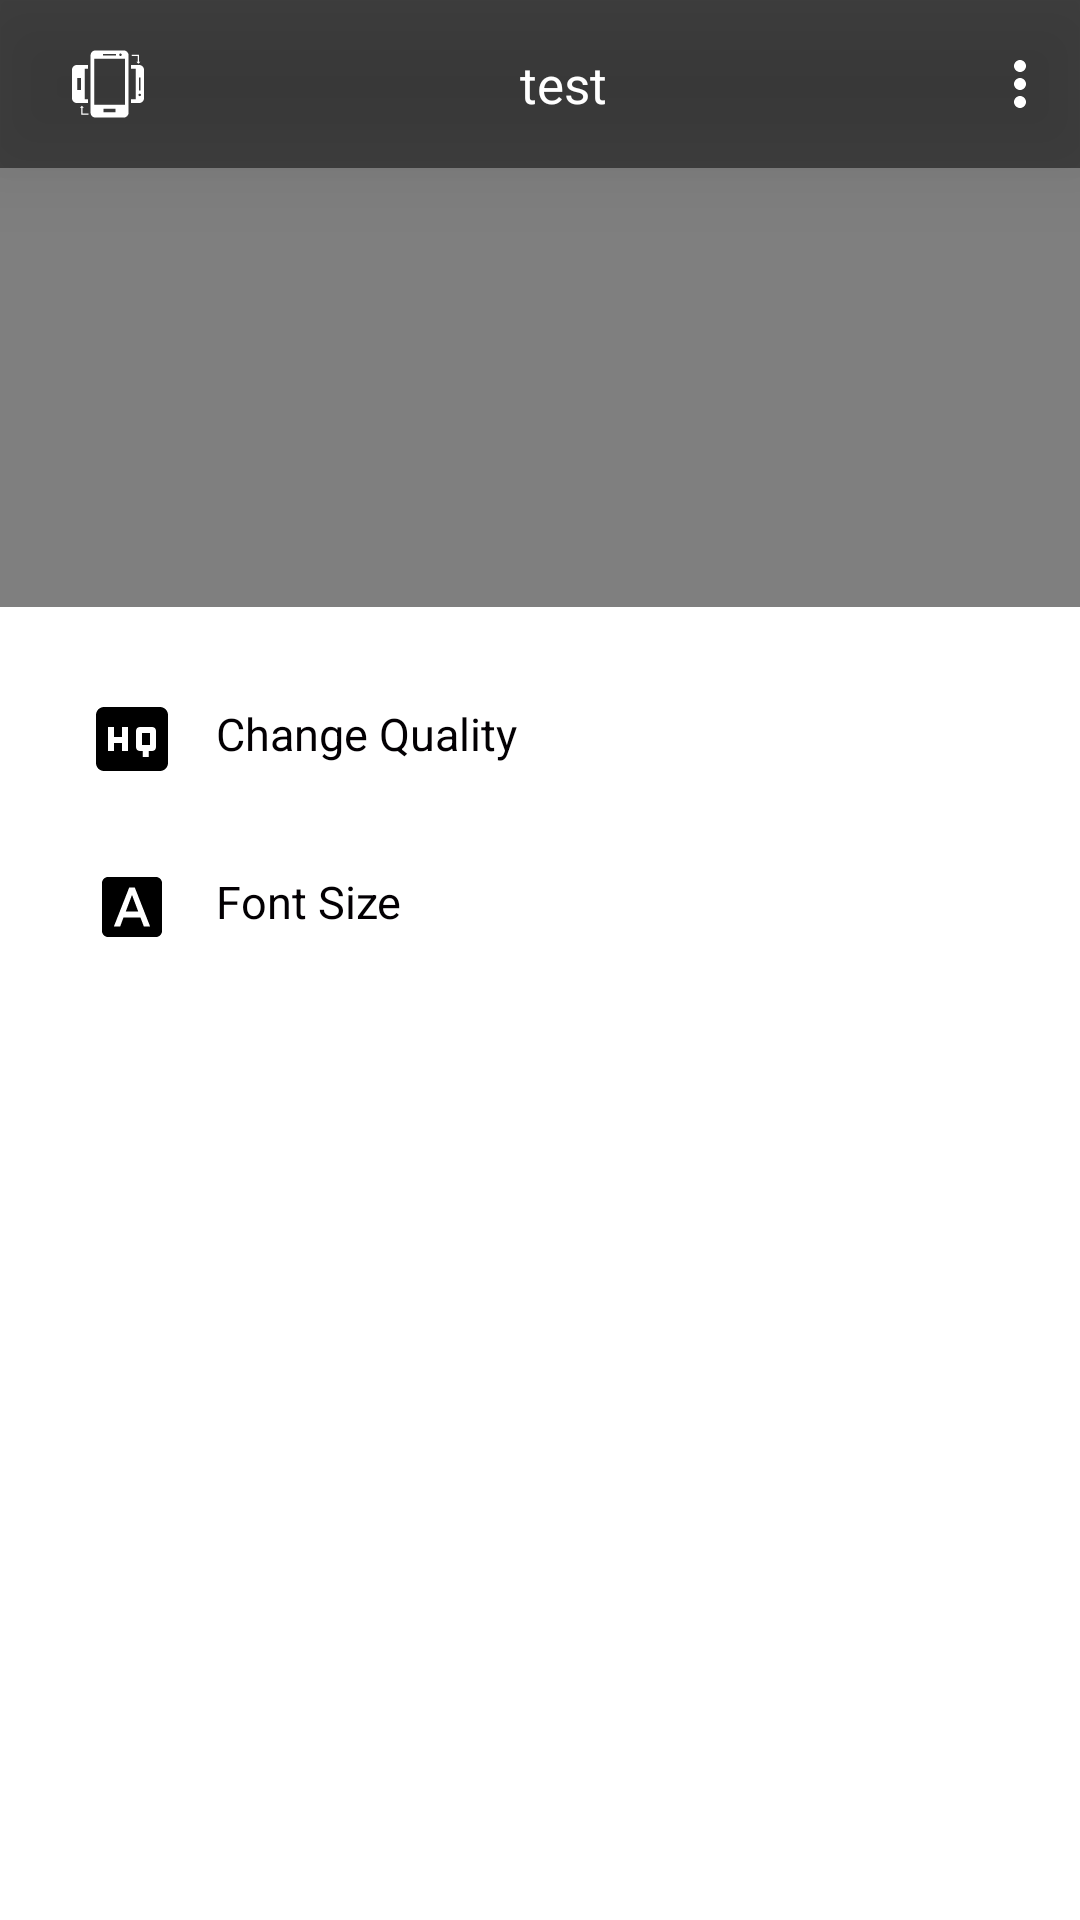

Icons on this 1080×1920 Android screen, each with the point to tap as point (x, y):
menu: point (1020, 84)
mobile orientation: point (108, 84)
